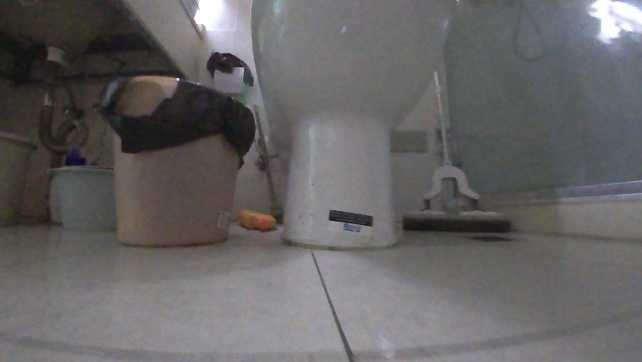toilet: (247, 0, 461, 253)
trash_can: (93, 72, 258, 250)
